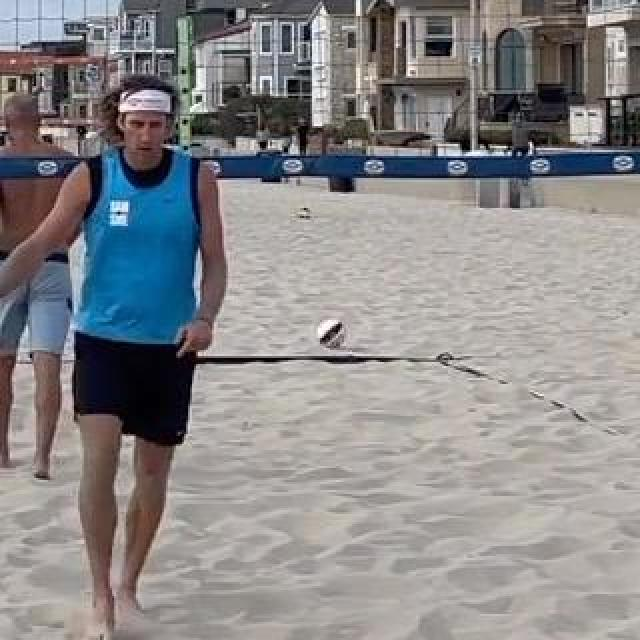volleyball: (317, 319, 347, 347)
